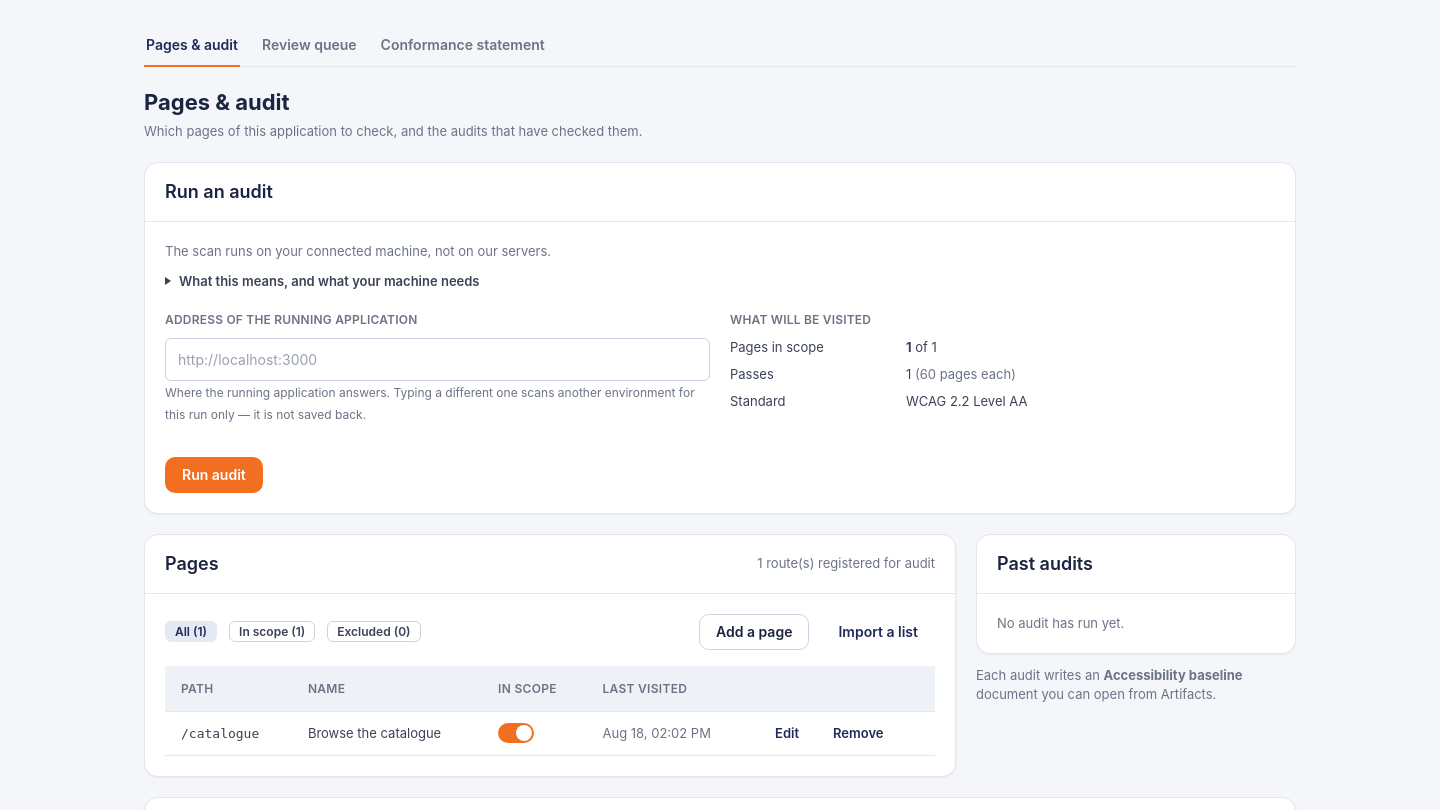
Test: S-38 adding pages › warns when a page being dropped would take its recorded problems with it
Click the button "Import a list": x=878, y=632 [821,614,935,650]
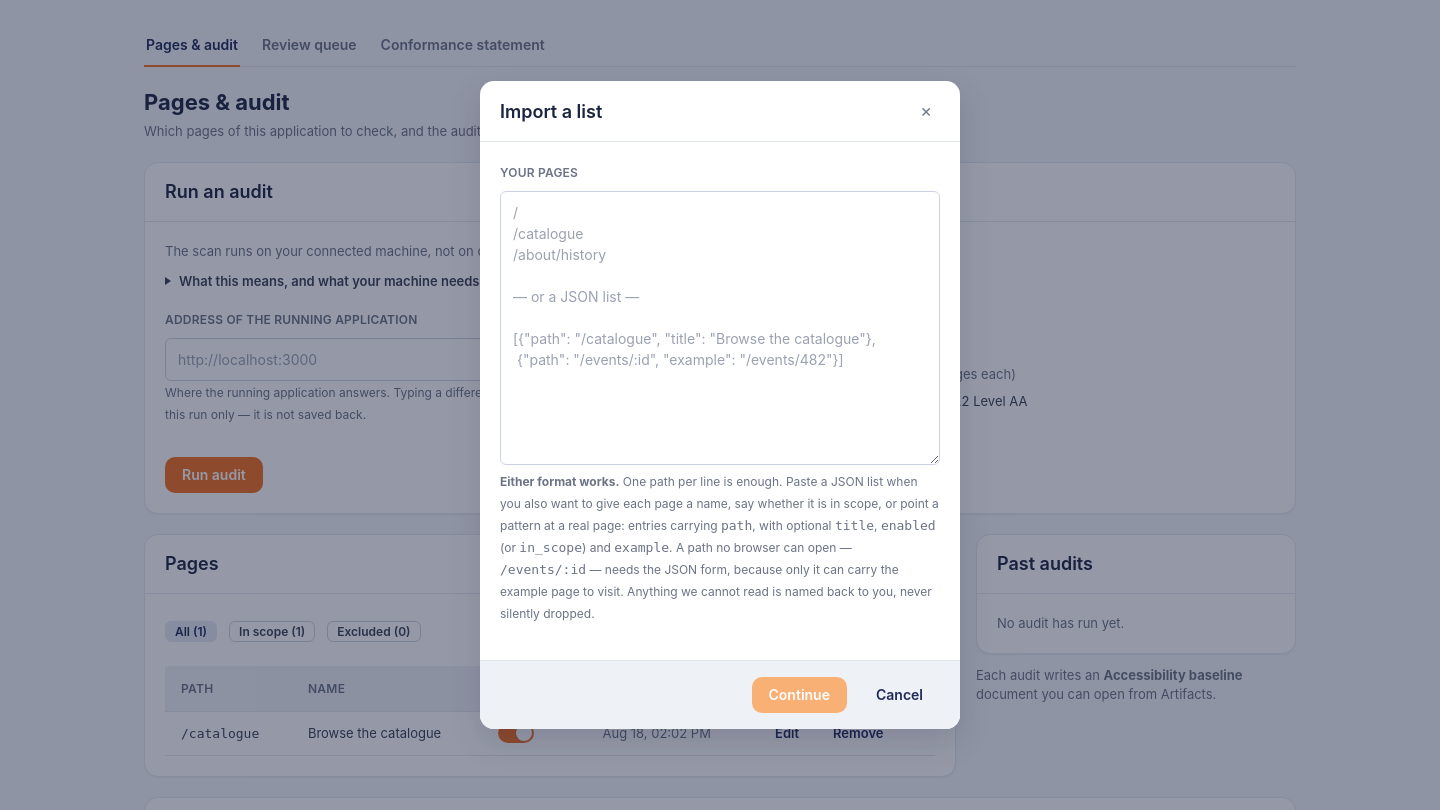
Click the text box labelled "Your pages": x=720, y=328 [500,191,940,465]
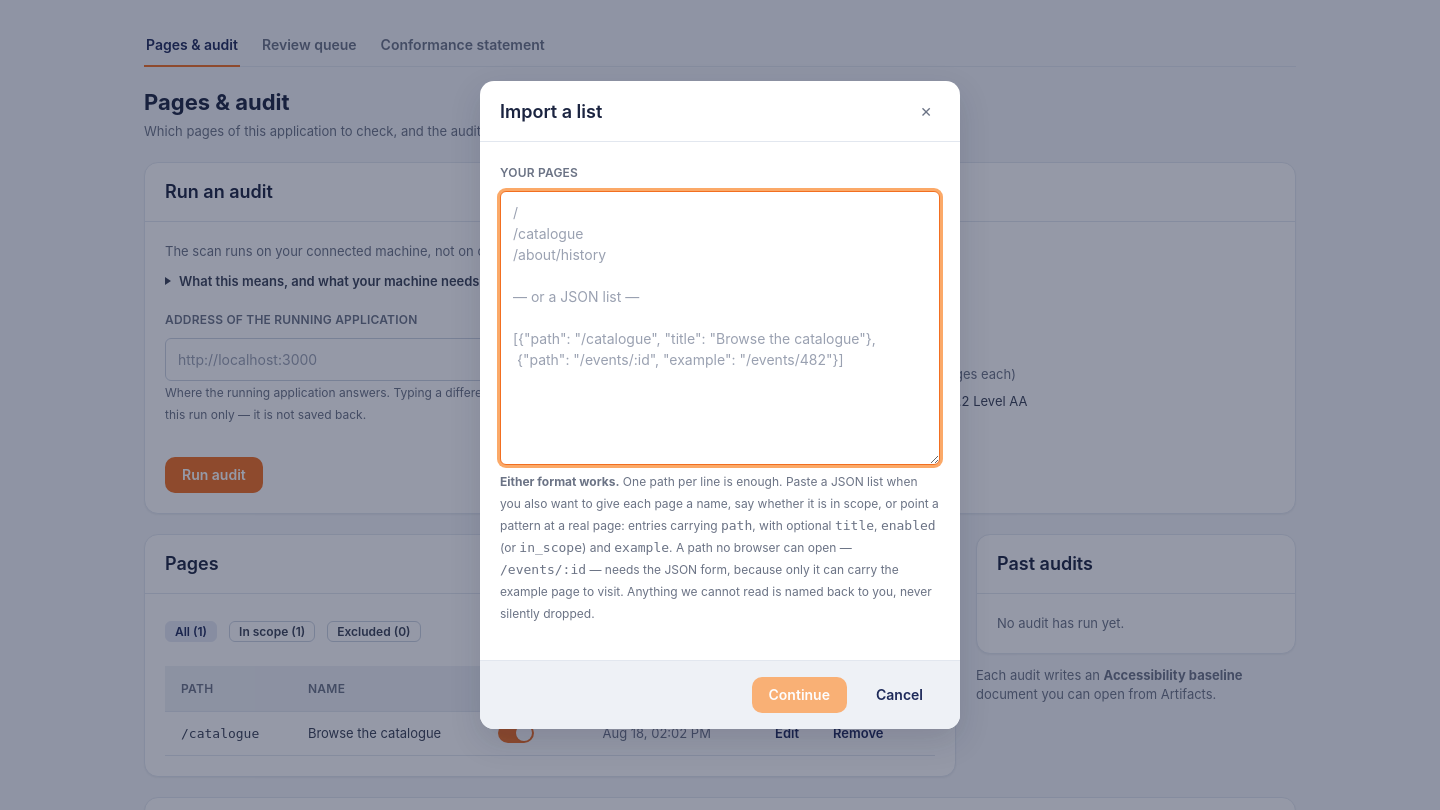
Type keys "[\"/\"]"
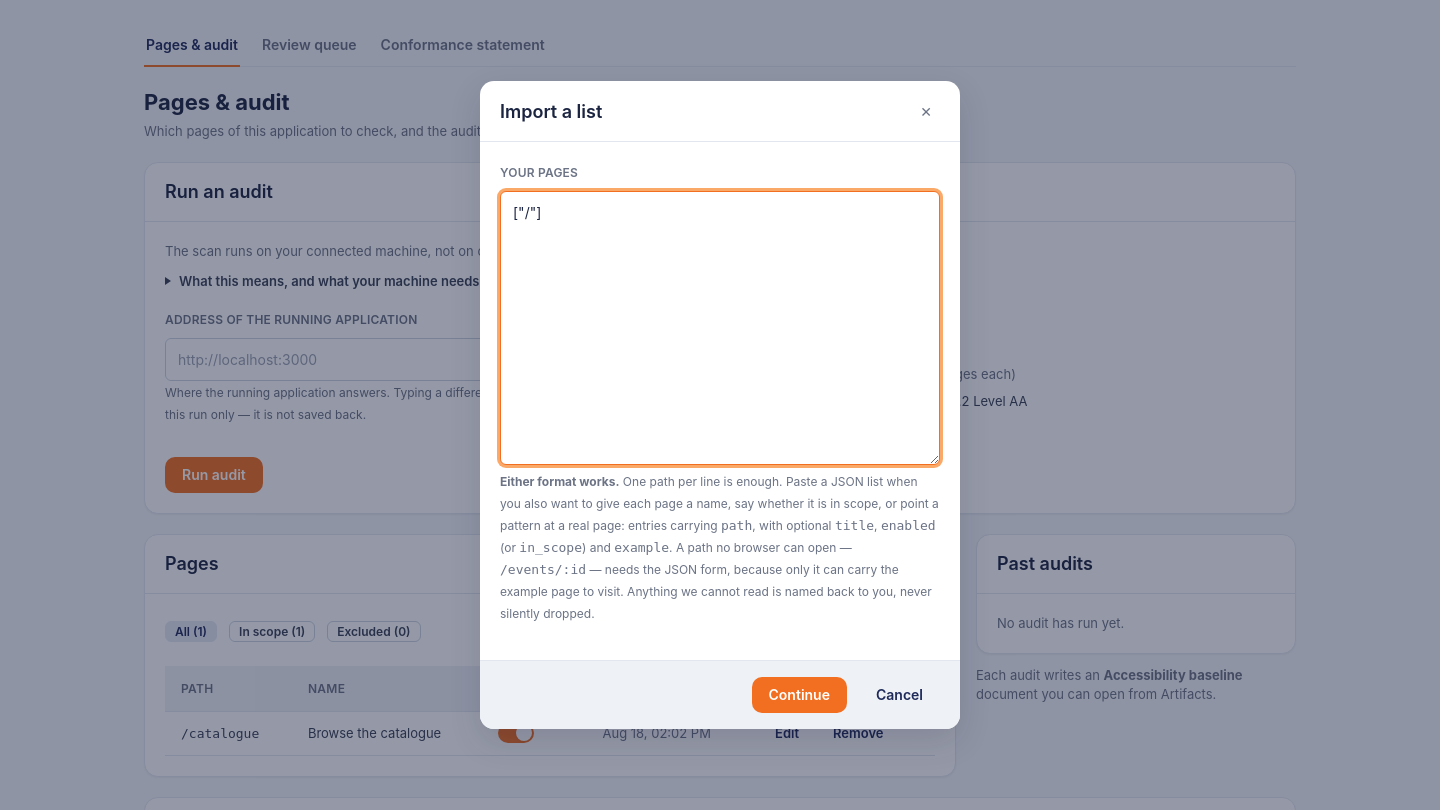
Click the button "Continue": x=799, y=695 [752,677,847,713]
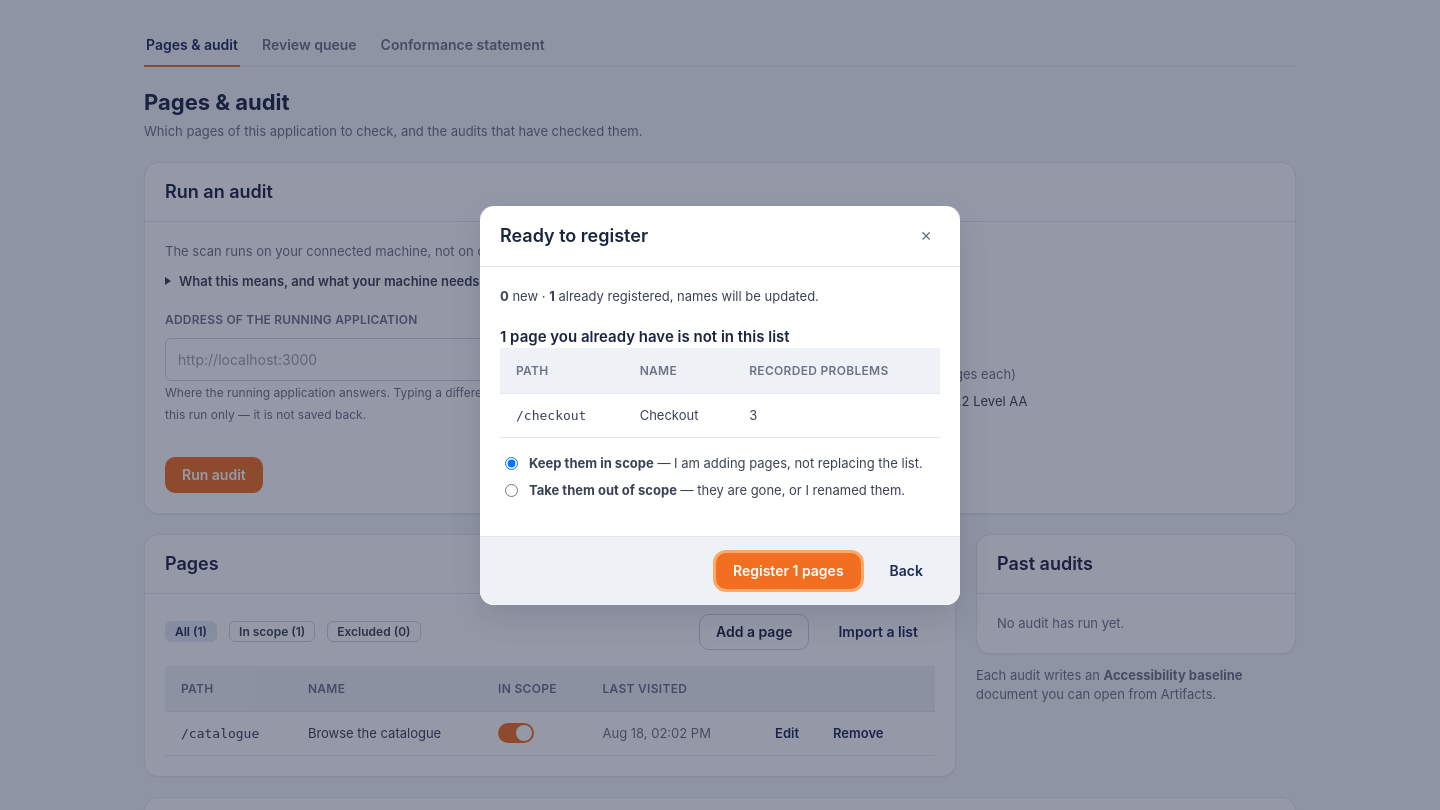
Click the radio button labelled "Take them out of scope — they are gone, or I renamed them.": x=512, y=490 [505,484,518,496]
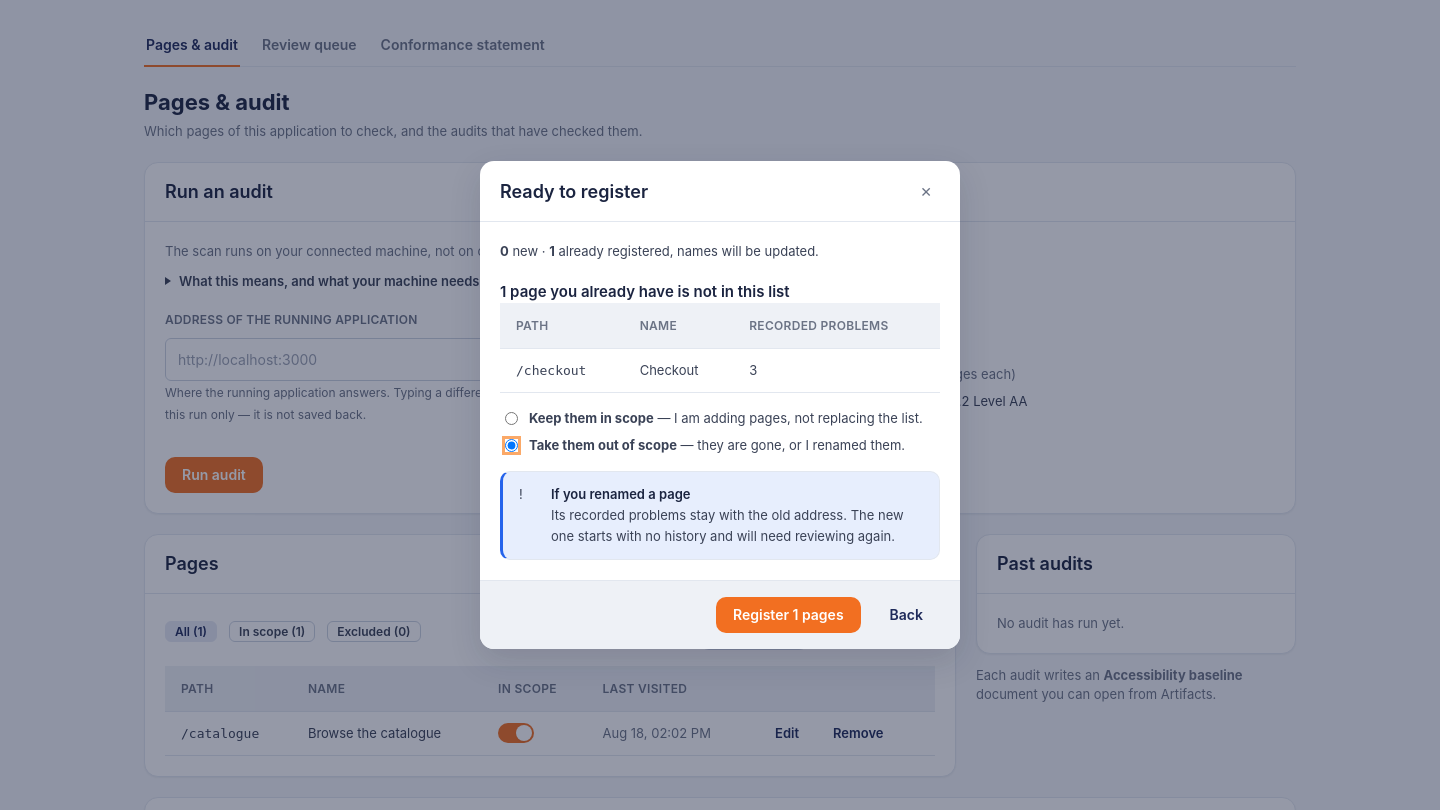
Expected: the text "If you renamed a page" is shown, [551,486,690,502]
Expected: the text "stay with the old address" is shown, [551,507,904,544]
